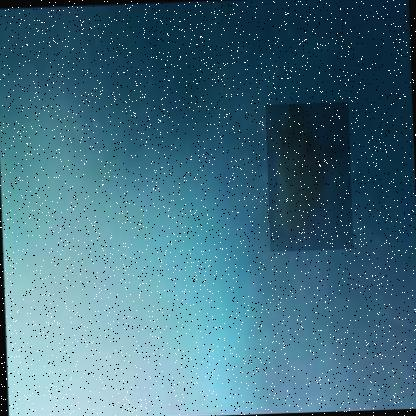mako-shark: (264, 100, 352, 251)
